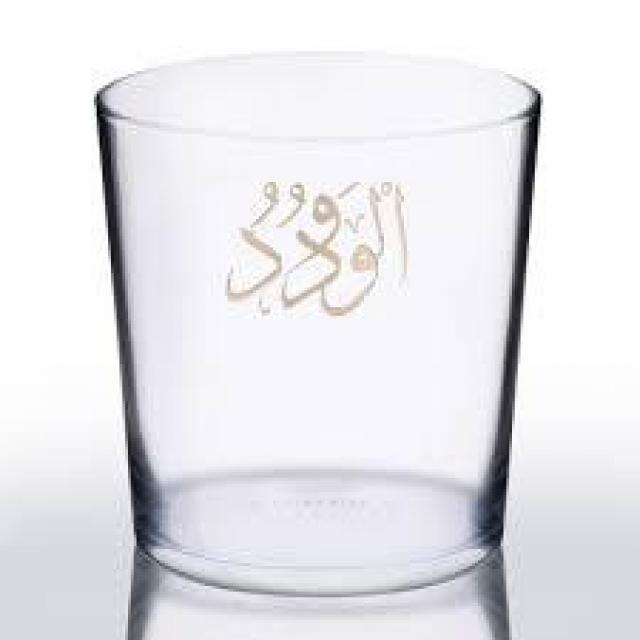glass: (85, 49, 546, 600)
